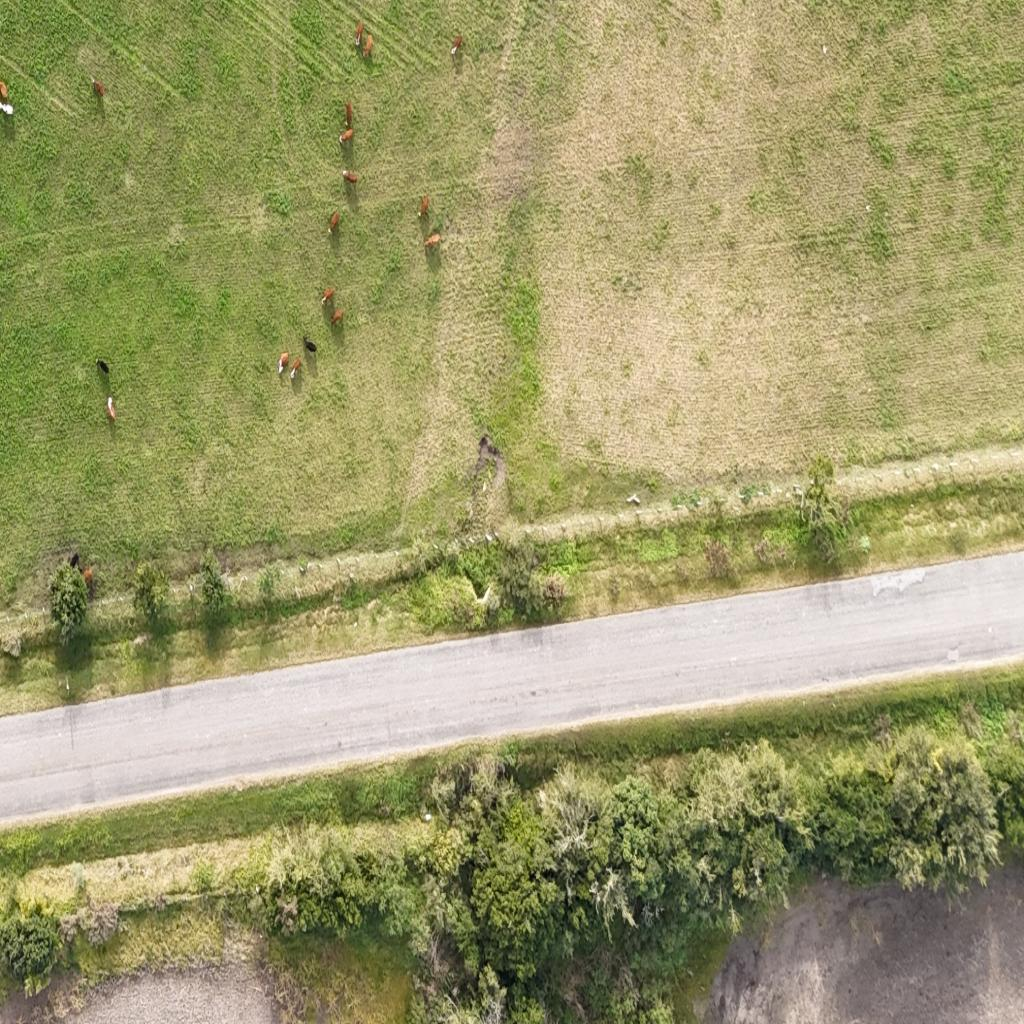cow: (326, 210, 340, 240), (106, 391, 118, 424), (90, 75, 104, 99), (424, 233, 440, 253), (0, 100, 15, 119), (330, 308, 344, 328), (302, 334, 316, 354), (339, 129, 354, 147), (290, 358, 302, 380), (451, 33, 462, 57), (279, 352, 290, 376), (363, 33, 373, 59), (341, 170, 358, 185), (354, 20, 363, 46), (82, 566, 94, 585), (322, 287, 334, 306), (419, 196, 429, 218), (69, 552, 80, 571), (97, 359, 109, 375), (0, 80, 9, 99)
